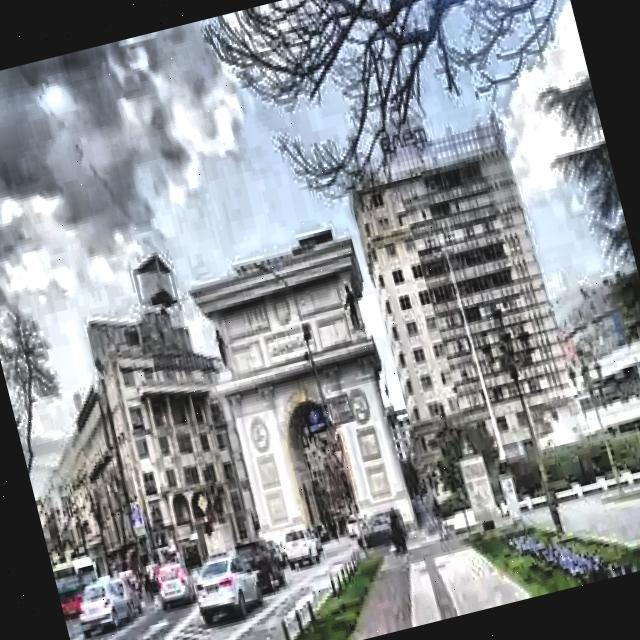triumphal arch: (170, 222, 418, 570)
